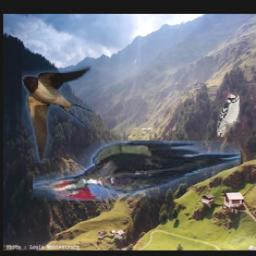Swallow: (22, 67, 92, 164)
Woodpecker: (34, 141, 242, 201), (218, 92, 241, 137)
